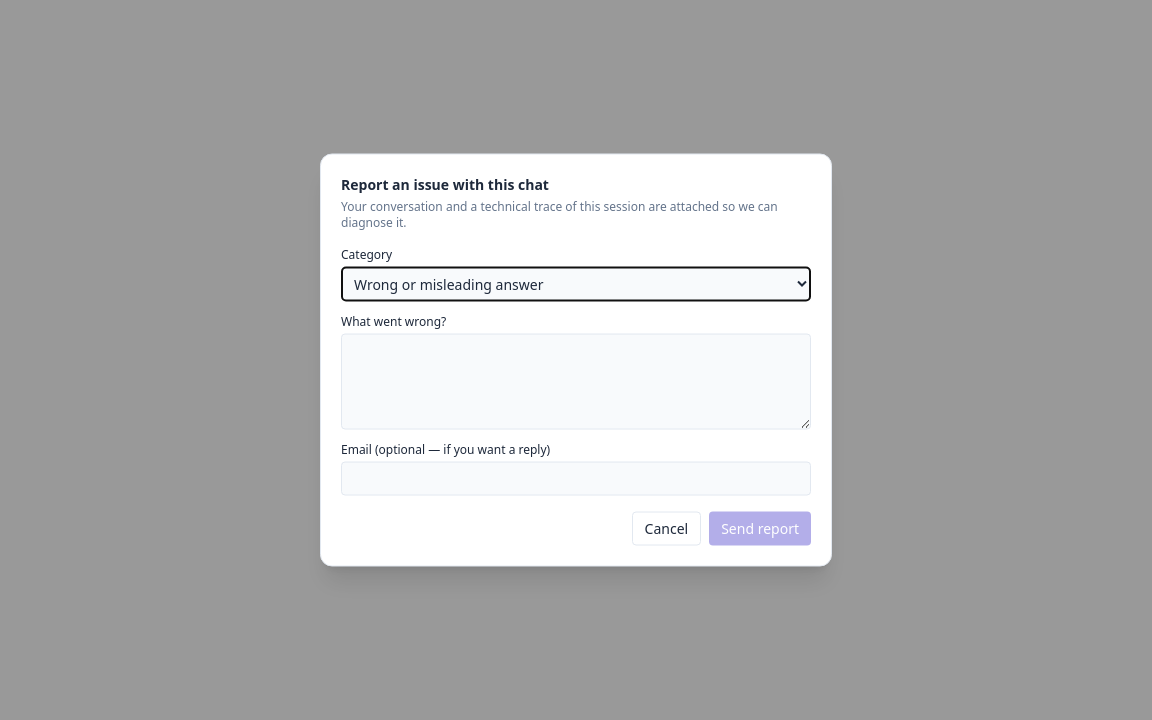
Test: ReportIssueDialog › keeps the text and shows an error when submit fails
Type "boom" into the text box labelled "What went wrong?" at (576, 382), box [341,334,811,430]
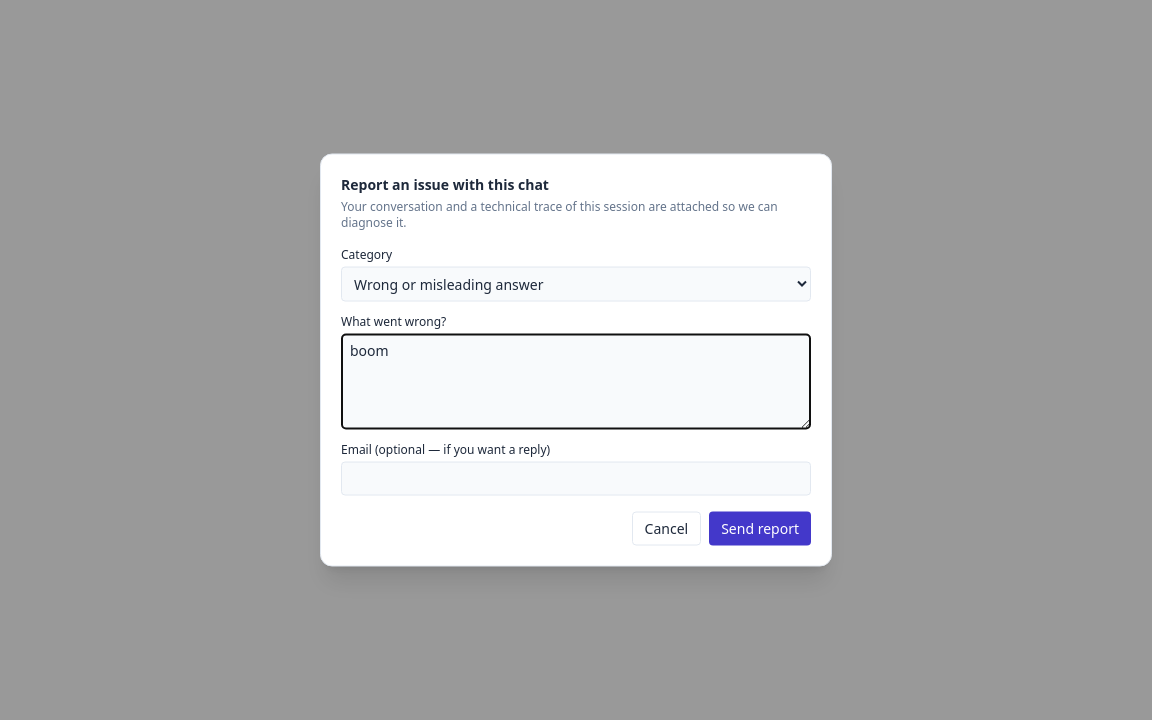
Click the button "Send report" at (760, 528), box [709,512,811,546]
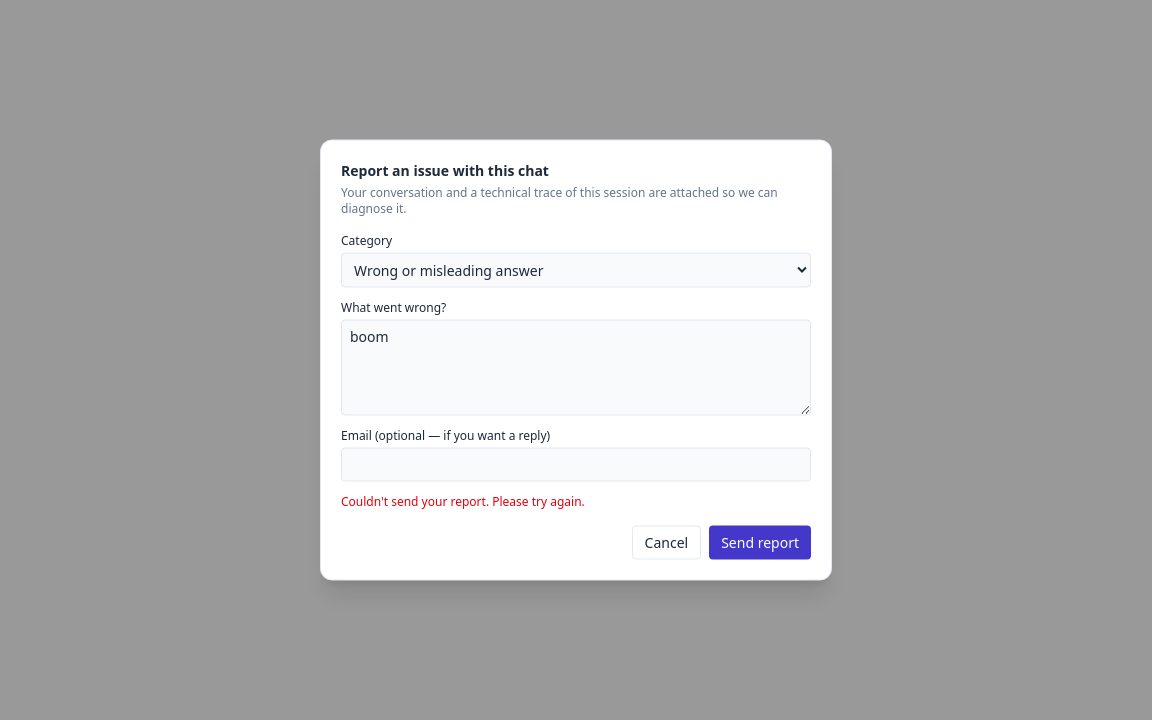
Check: the text "Couldn't send your report. Please try again." is shown, box [341,492,585,510]
